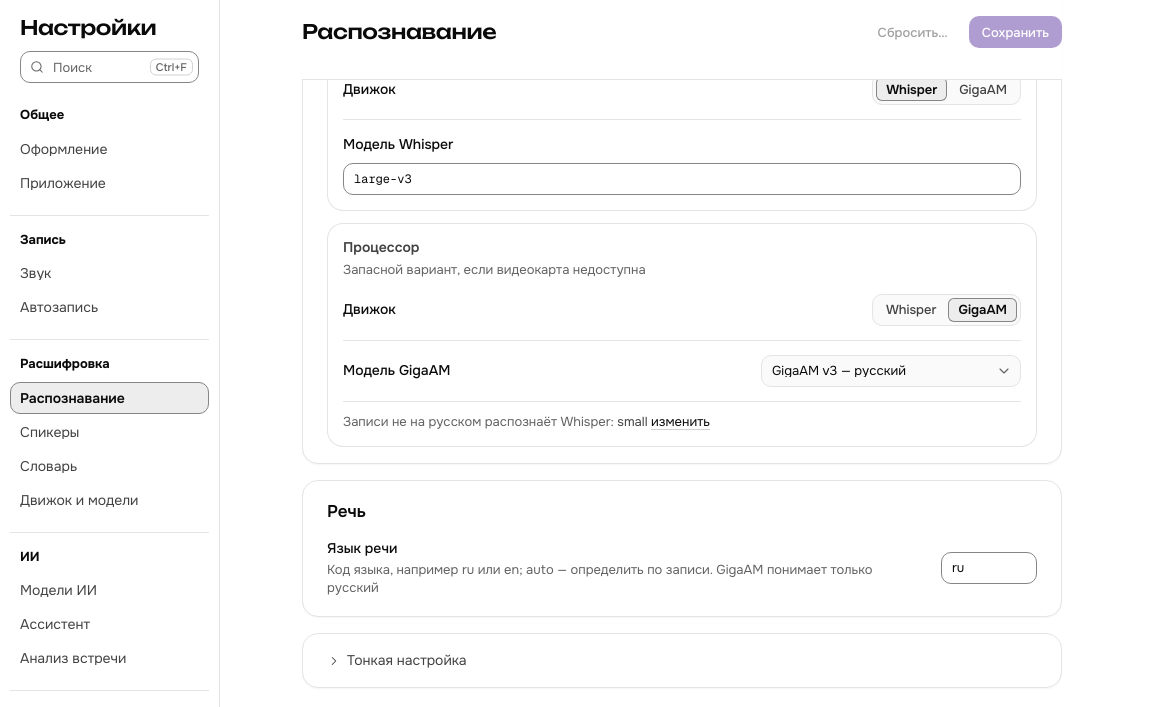
Test: «asr»: внизу раздела — свёрнутая «Тонкая настройка» с редкими строками
The width and height of the screenshot is (1152, 707).
(page scrolled)
Click the button "Тонкая настройка" at (407, 660), box x1=327 y1=642 x2=1037 y2=679
(page scrolled)
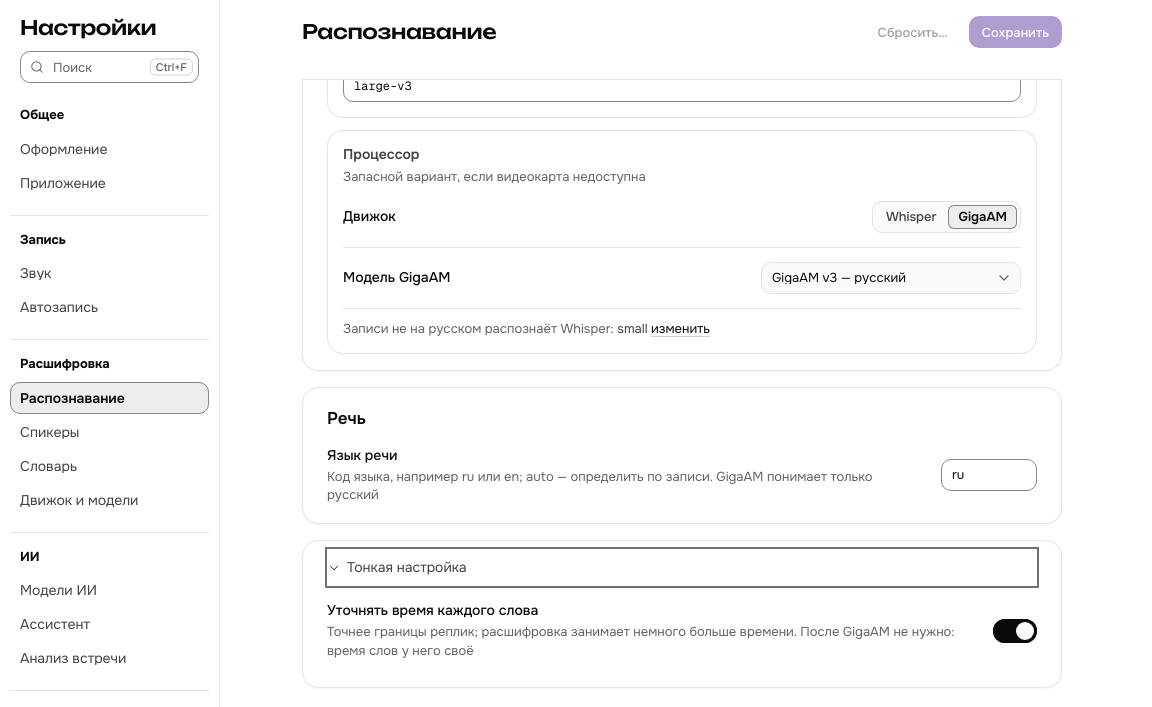
Now the button "Тонкая настройка" is expanded, box x1=327 y1=549 x2=1037 y2=586
Now the switch named "Уточнять время каждого слова" is shown, box x1=993 y1=618 x2=1037 y2=642
